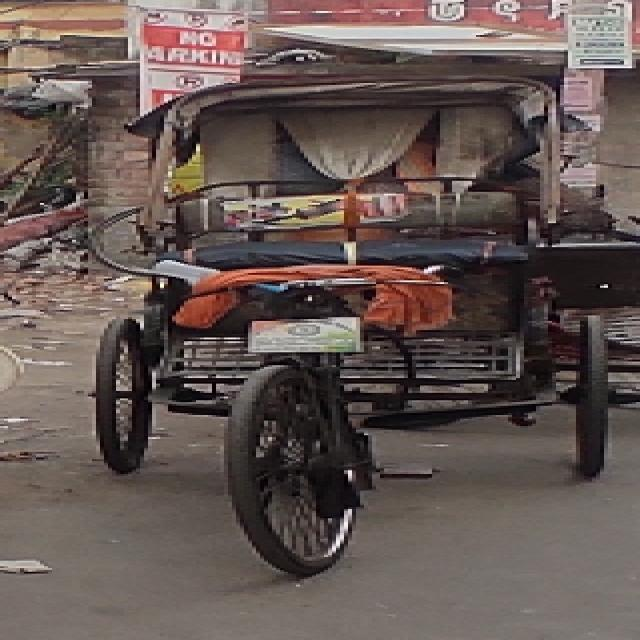rickshaw: (71, 39, 640, 585)
